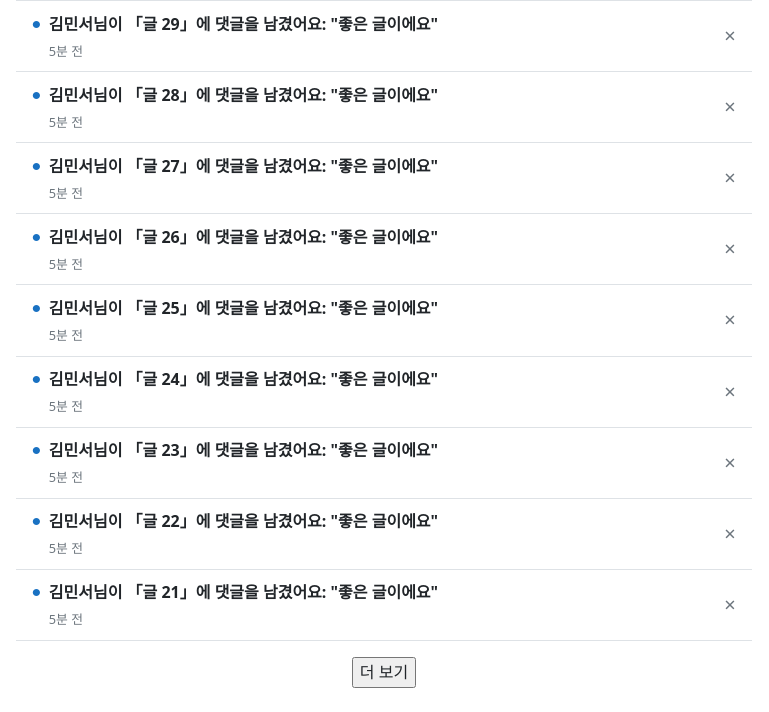
Test: NotificationsPage › 20개씩 [더 보기]로 이어 붙이고 같은 번호는 건너뛴다
The image size is (769, 712).
(page scrolled)
What coordinates should you click on to do the following:
click the button "더 보기"
I would click on:
 (384, 672)
Its box is 352,657 -> 416,688.
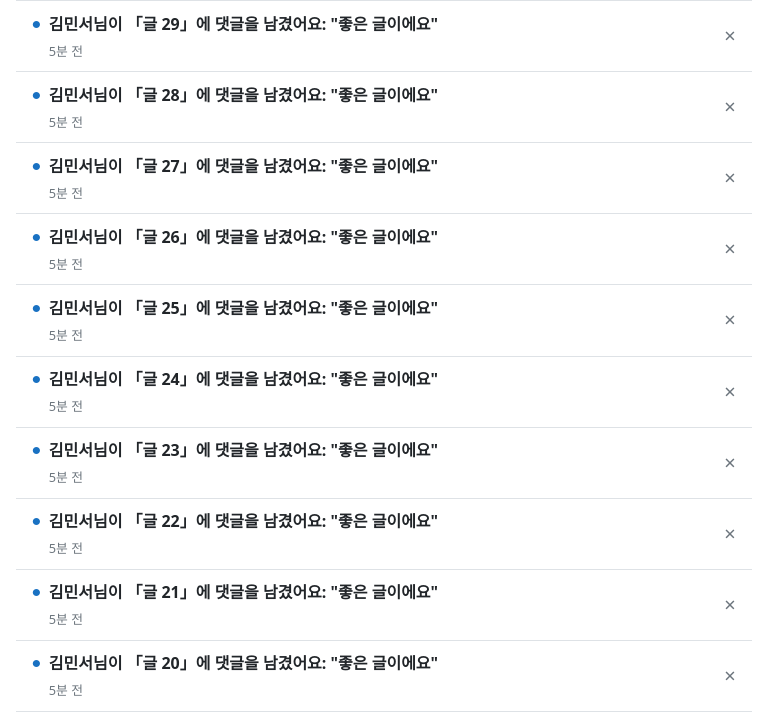
Expected: the button "더 보기" is gone
